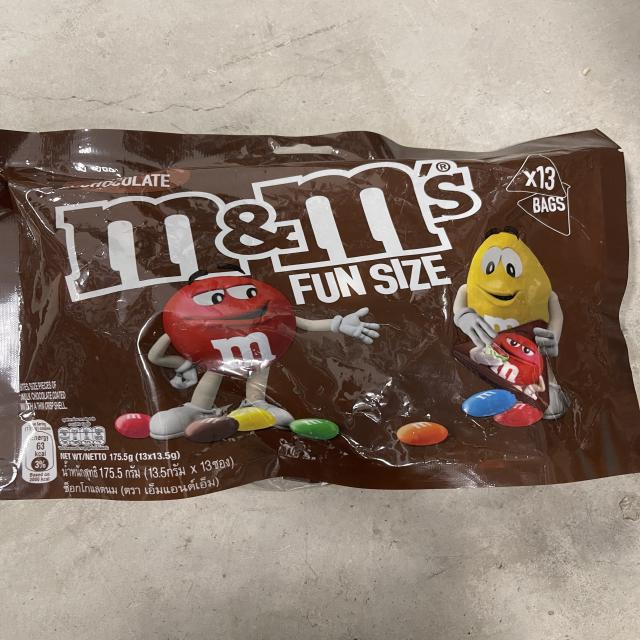object_name: (2, 138, 637, 475)
